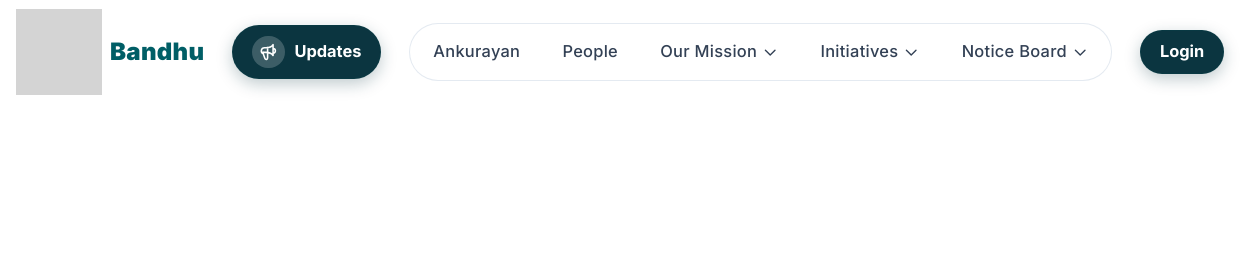
Navbar desktop menu › lists Odisha Satabdi first in Initiatives when enabled
This screenshot has width=1247, height=261.
Step 1. Click the button "Initiatives" → coordinates (870, 52), box [813,33,926,71]
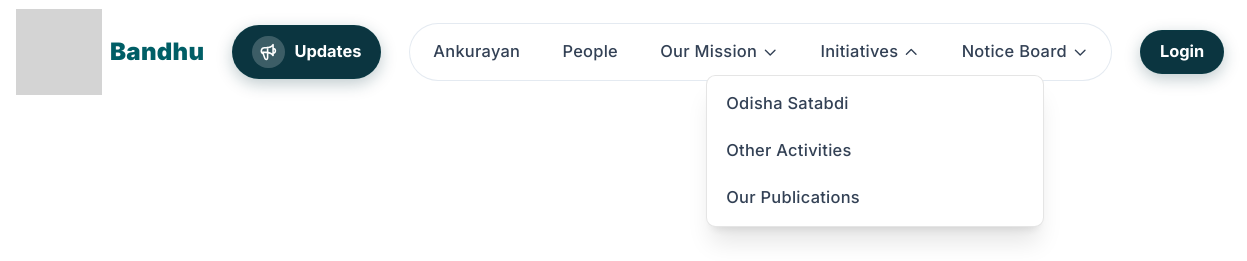
expect the element showing "Odisha Satabdi Other Activities Our Publications" is shown: met, box [706,75,1044,227]
expect the link "Odisha Satabdi" is shown: met, box [726,93,849,113]
expect the link "Other Activities" is shown: met, box [726,140,852,160]
